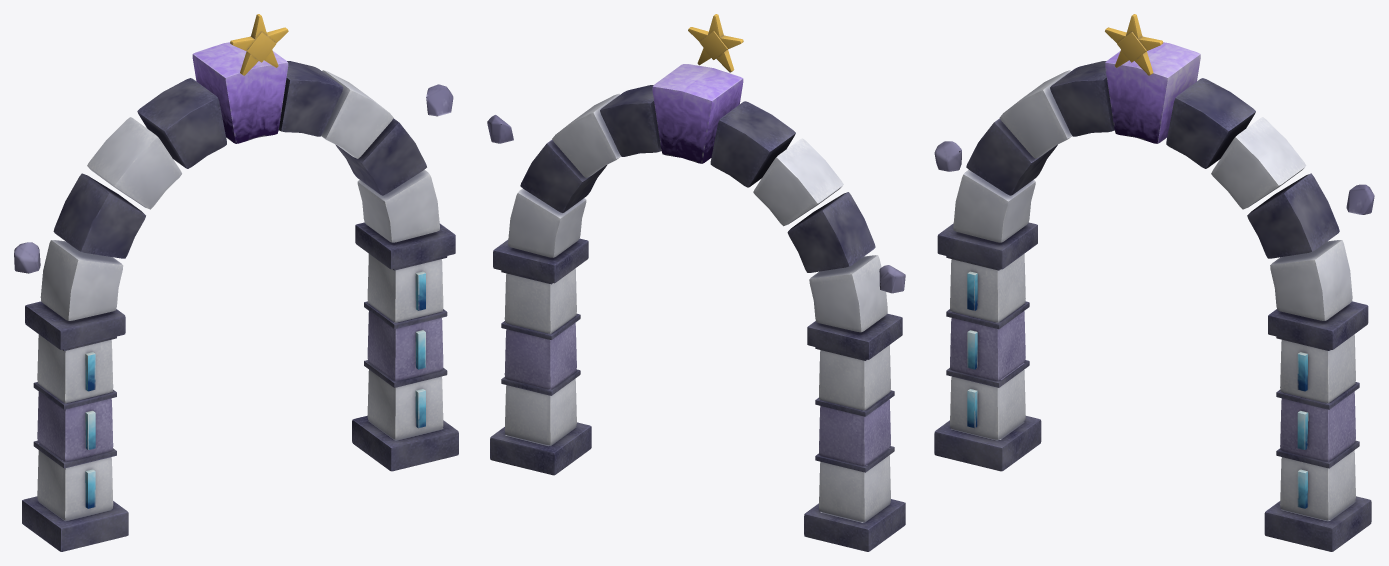
Rendered from Cosmos_PorteStellaire.fbx.
3 renders of one model, left to right at view 1: azimuth 30°, elevation 25°; view 2: azimuth 150°, elevation 25°; view 3: azimuth 330°, elevation 25°, orthographic. The views are drawn at different scales.
Parts seen in each view (by area): view 1: Cosmos_PorteStellaire; view 2: Cosmos_PorteStellaire; view 3: Cosmos_PorteStellaire.
Part boxes in pixels (<box>): Cosmos_PorteStellaire: <box>14,14,458,551</box>; Cosmos_PorteStellaire: <box>487,14,905,551</box>; Cosmos_PorteStellaire: <box>934,14,1374,551</box>.
Size of the model in its own units: 2805 by 2998 by 460.
1 material, 1 textured.
